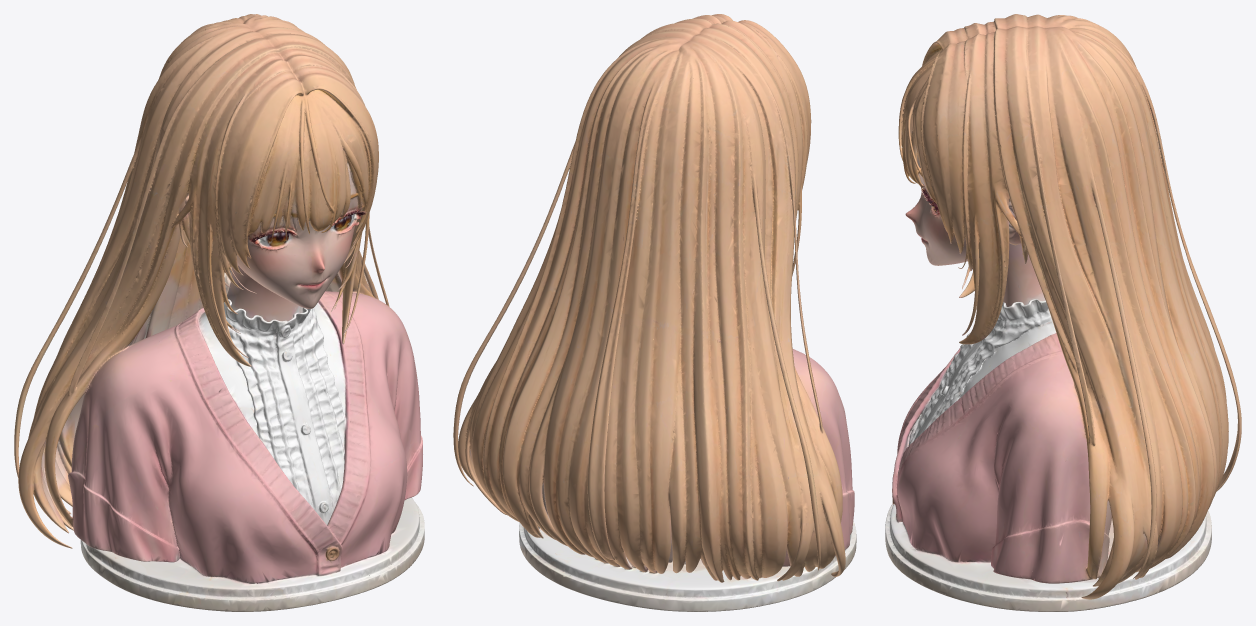
Rendered from 粉红外套女孩-程浩源.glb.
The picture shows the model from 3 angles, left to right: view 1: azimuth 30°, elevation 25°; view 2: azimuth 150°, elevation 25°; view 3: azimuth 270°, elevation 25°; orthographic projection. The views are drawn at different scales.
Bounding box in the file's own units: 1.51 × 1.9 × 1.19.
Materials: 1 (1 with a texture image).
